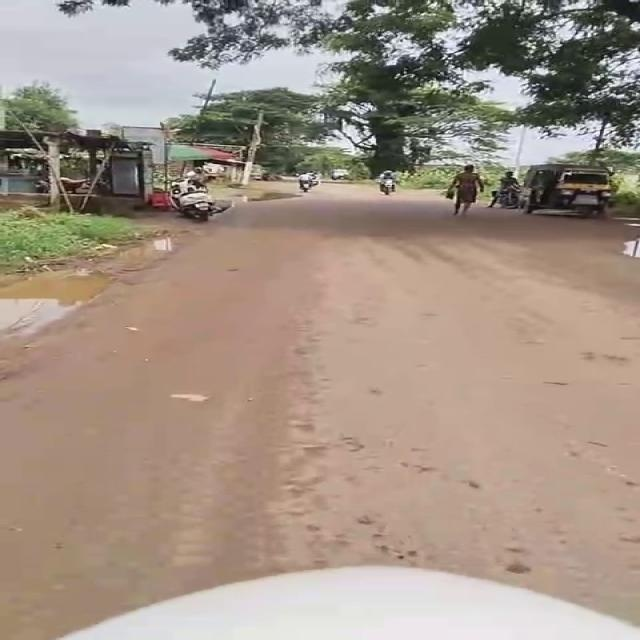pothole: (3, 271, 113, 340), (122, 232, 186, 261)
